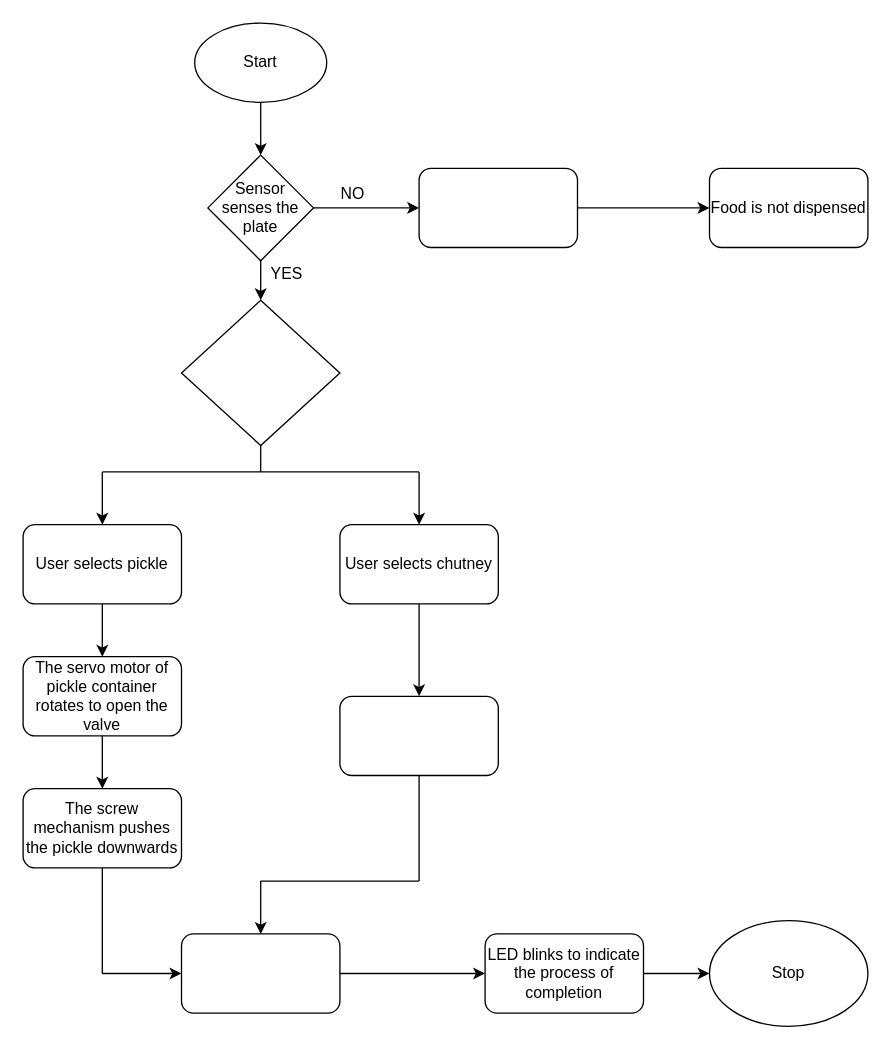
The diagram is 891 pixels wide and 1049 high, and some of its shapes have lost their labels. The centre of each missing label's shape, as x and y in pixels:
Food is dispensed on the plate: point (260, 973)
Motor does not work: point (498, 207)
Takes user input through bluetooth: point (260, 372)
The servo motor of chutney container rotates to open the valve: point (418, 735)
